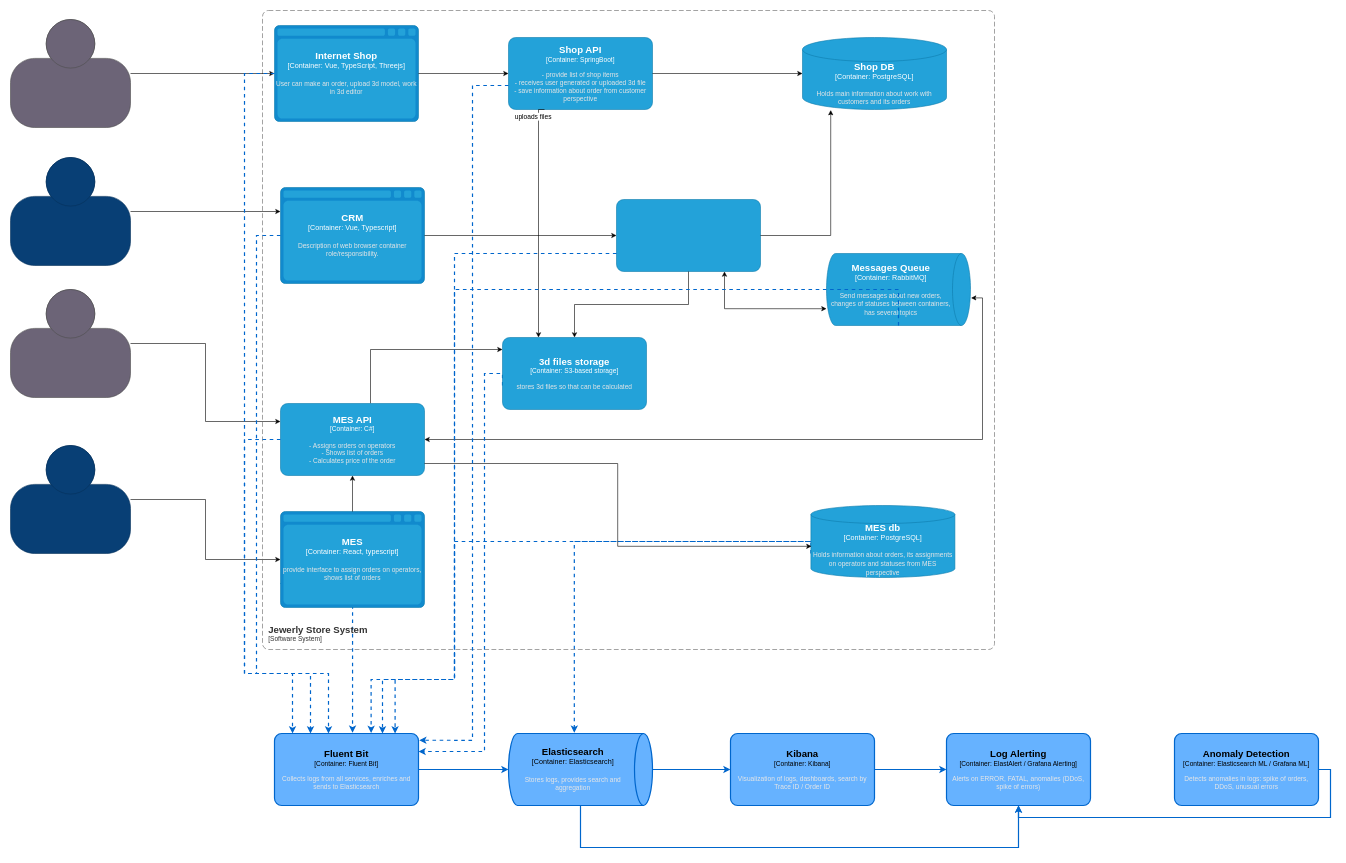
The diagram is 1346 pixels wide and 863 high, and some of its shapes have lost their labels. Here are the shapes that lost their labels. From the top down, the centre of each, then its label:
the point at 70,73: Customer [Person] Description of external person.
the point at 70,211: Seller [Person] Operates with order, confirms manufacturing for the user
the point at 688,235: CRM API [Container: SpringBoot] Description of container role/responsibility.
the point at 70,343: API user [Person] Description of external person.
the point at 70,499: Operator [Person] Takes order in work, manufactures jewerly
